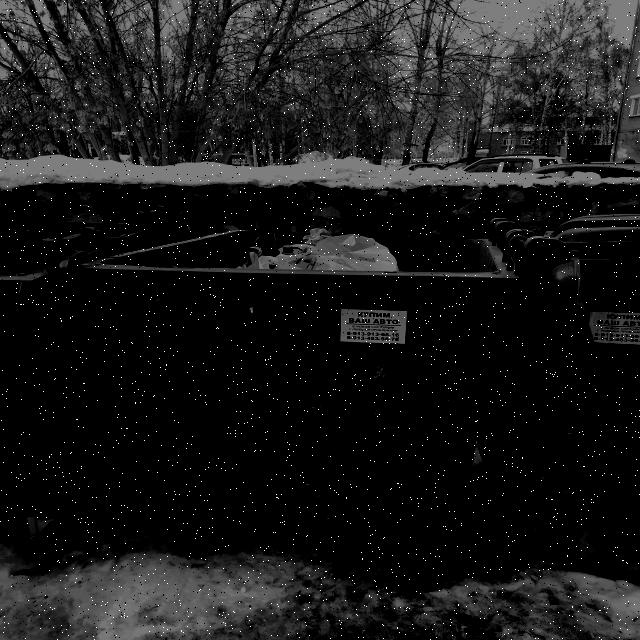Trashcan: (80, 186, 570, 569)
